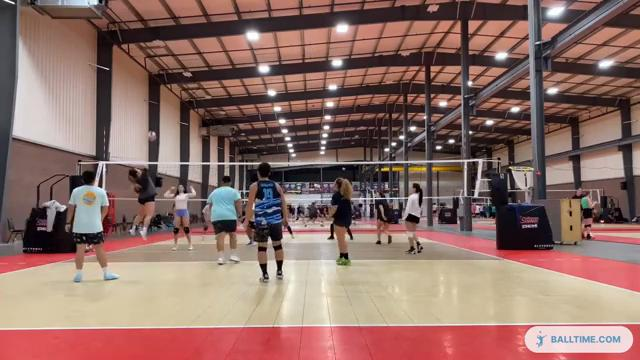attacco: (123, 157, 160, 243)
